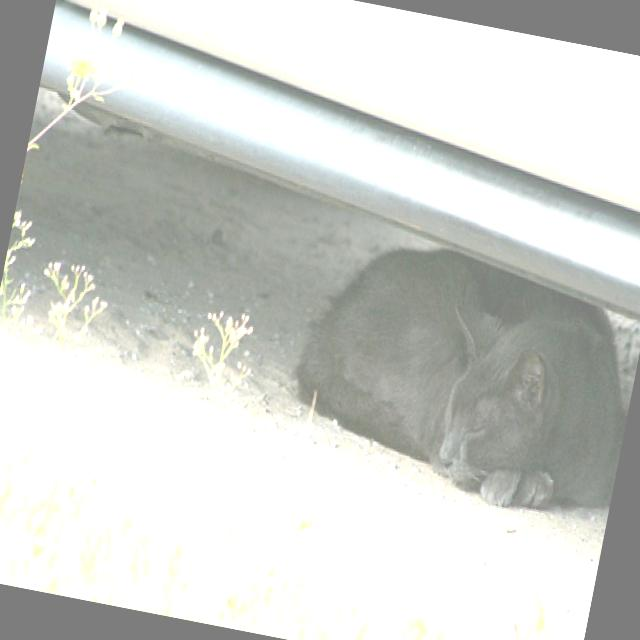Vehicle: (17, 0, 640, 322)
